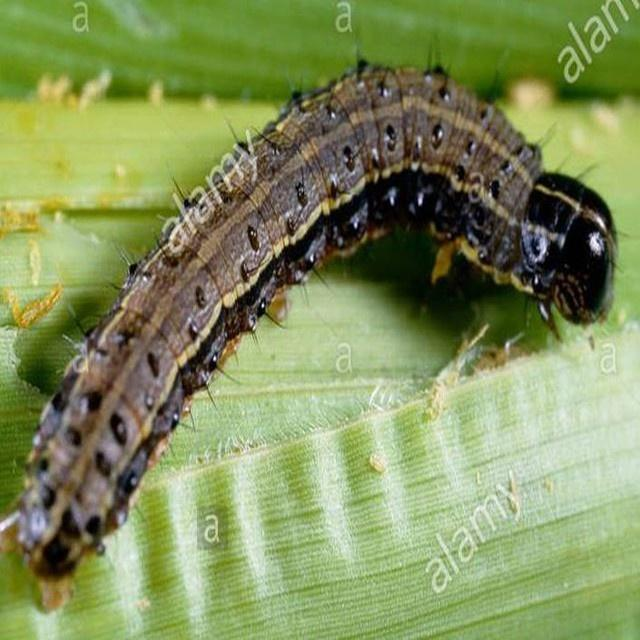gusano_cogollero: (0, 50, 624, 620)
